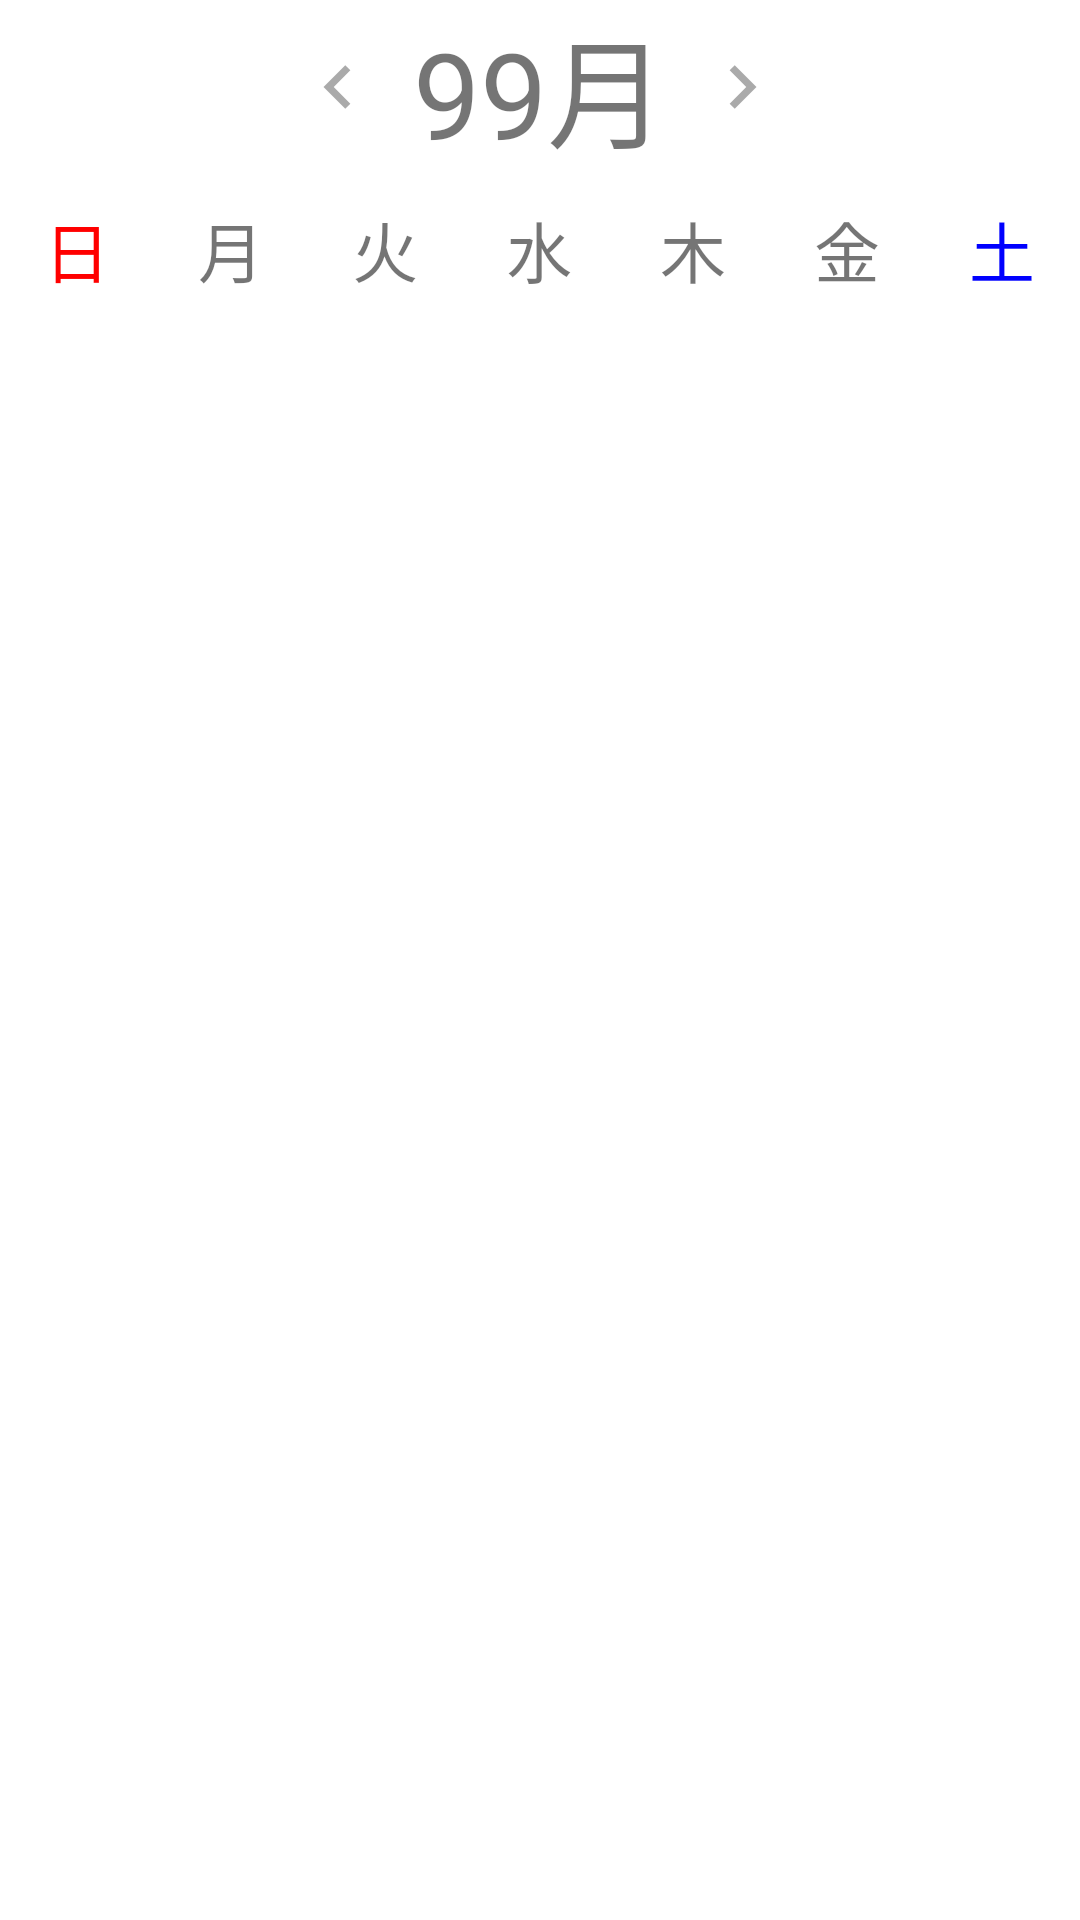

Screen size 1080x1920. Icon name, then its center in pixels as (x,y):
left arrow: (337,87)
right arrow: (743,87)
